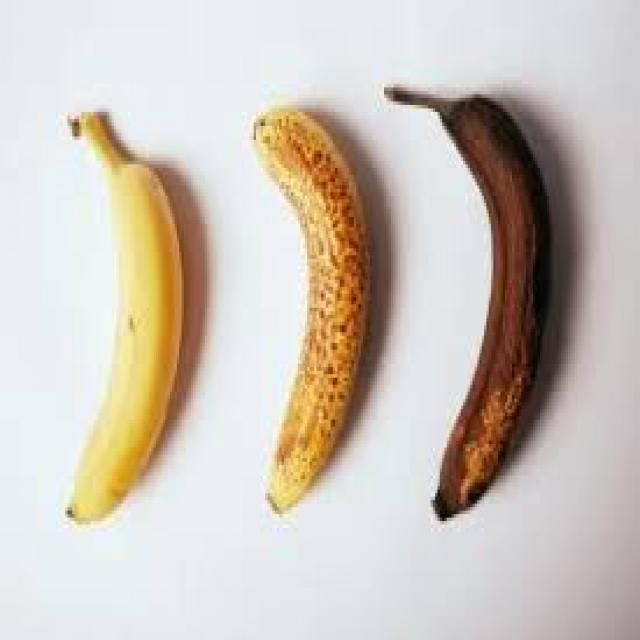organic waste: (377, 81, 549, 521), (58, 108, 184, 524), (251, 105, 370, 518)
